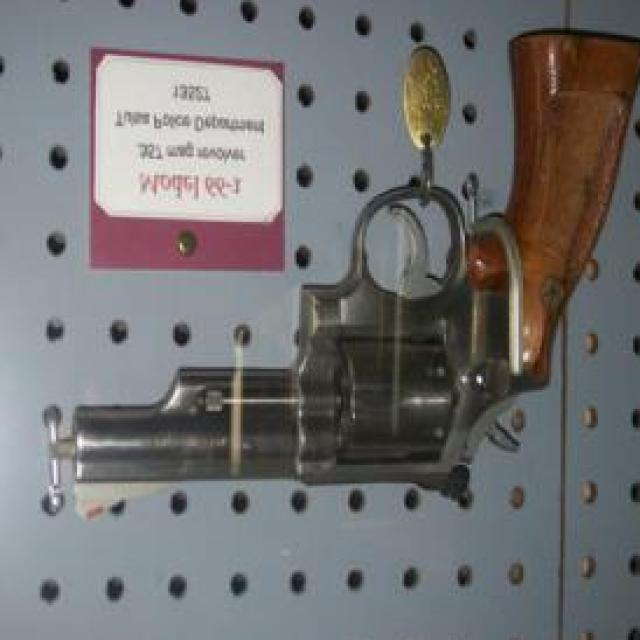pistol: (72, 31, 640, 510)
